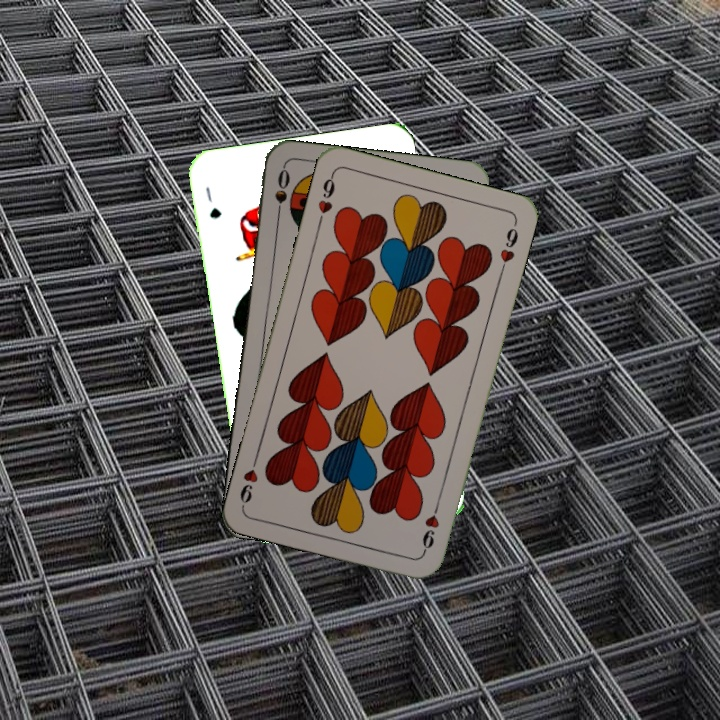GU: (201, 183, 224, 221)
H9: (313, 169, 338, 228), (418, 498, 442, 556)
SO: (271, 165, 292, 224)
